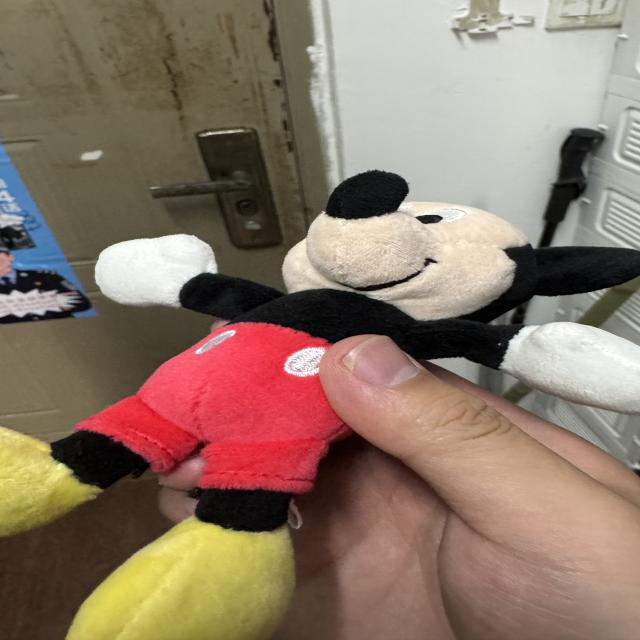mickey: (0, 172, 639, 639)
